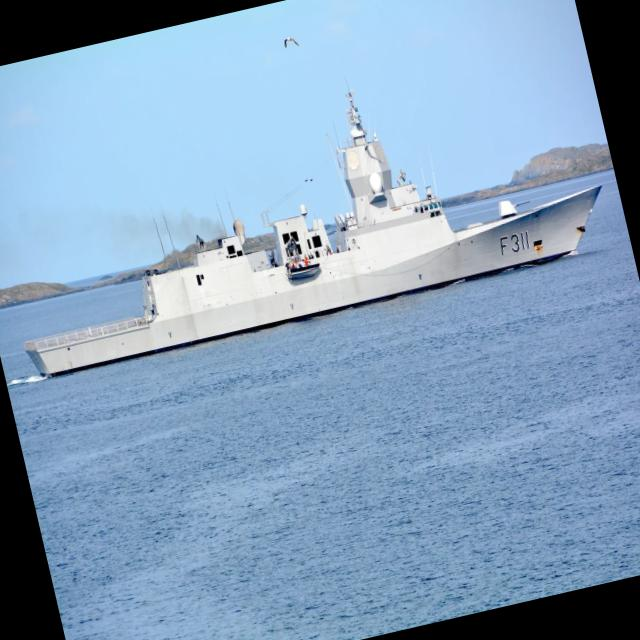Military: (25, 91, 600, 375)
